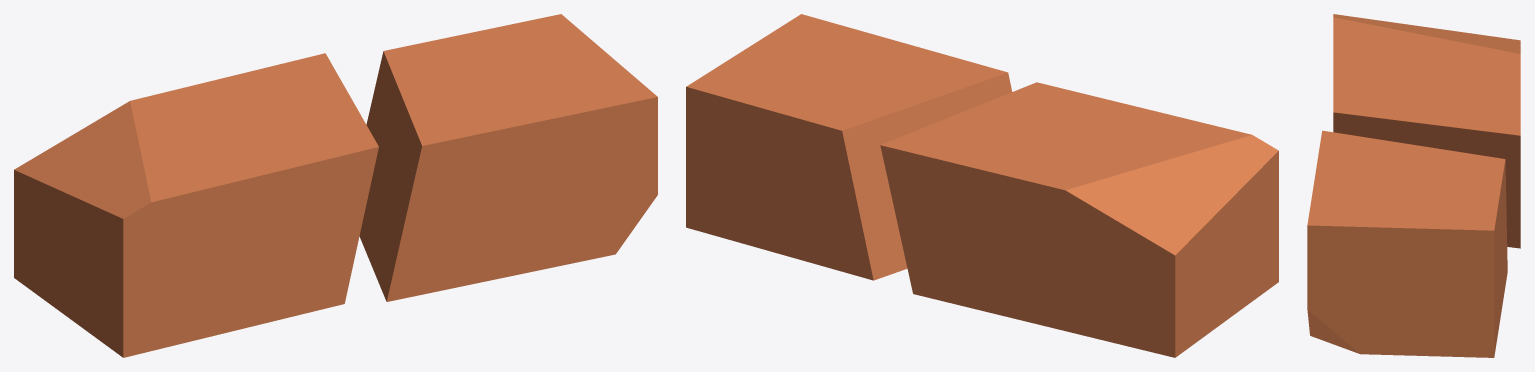
The model's file is Brick_crk_04.fbx.
The picture shows the model from 3 angles, left to right: view 1: azimuth 30°, elevation 25°; view 2: azimuth 150°, elevation 25°; view 3: azimuth 270°, elevation 25°; orthographic projection. The views are drawn at different scales.
Parts seen in each view (by area): view 1: Brick_crk_04; view 2: Brick_crk_04; view 3: Brick_crk_04.
Part boxes in pixels (x1,y1,x2,y2): Brick_crk_04: (14,14,657,357); Brick_crk_04: (686,14,1278,357); Brick_crk_04: (1307,14,1520,357).
Size of the model in its own units: 28.07 by 7.67 by 11.38.
